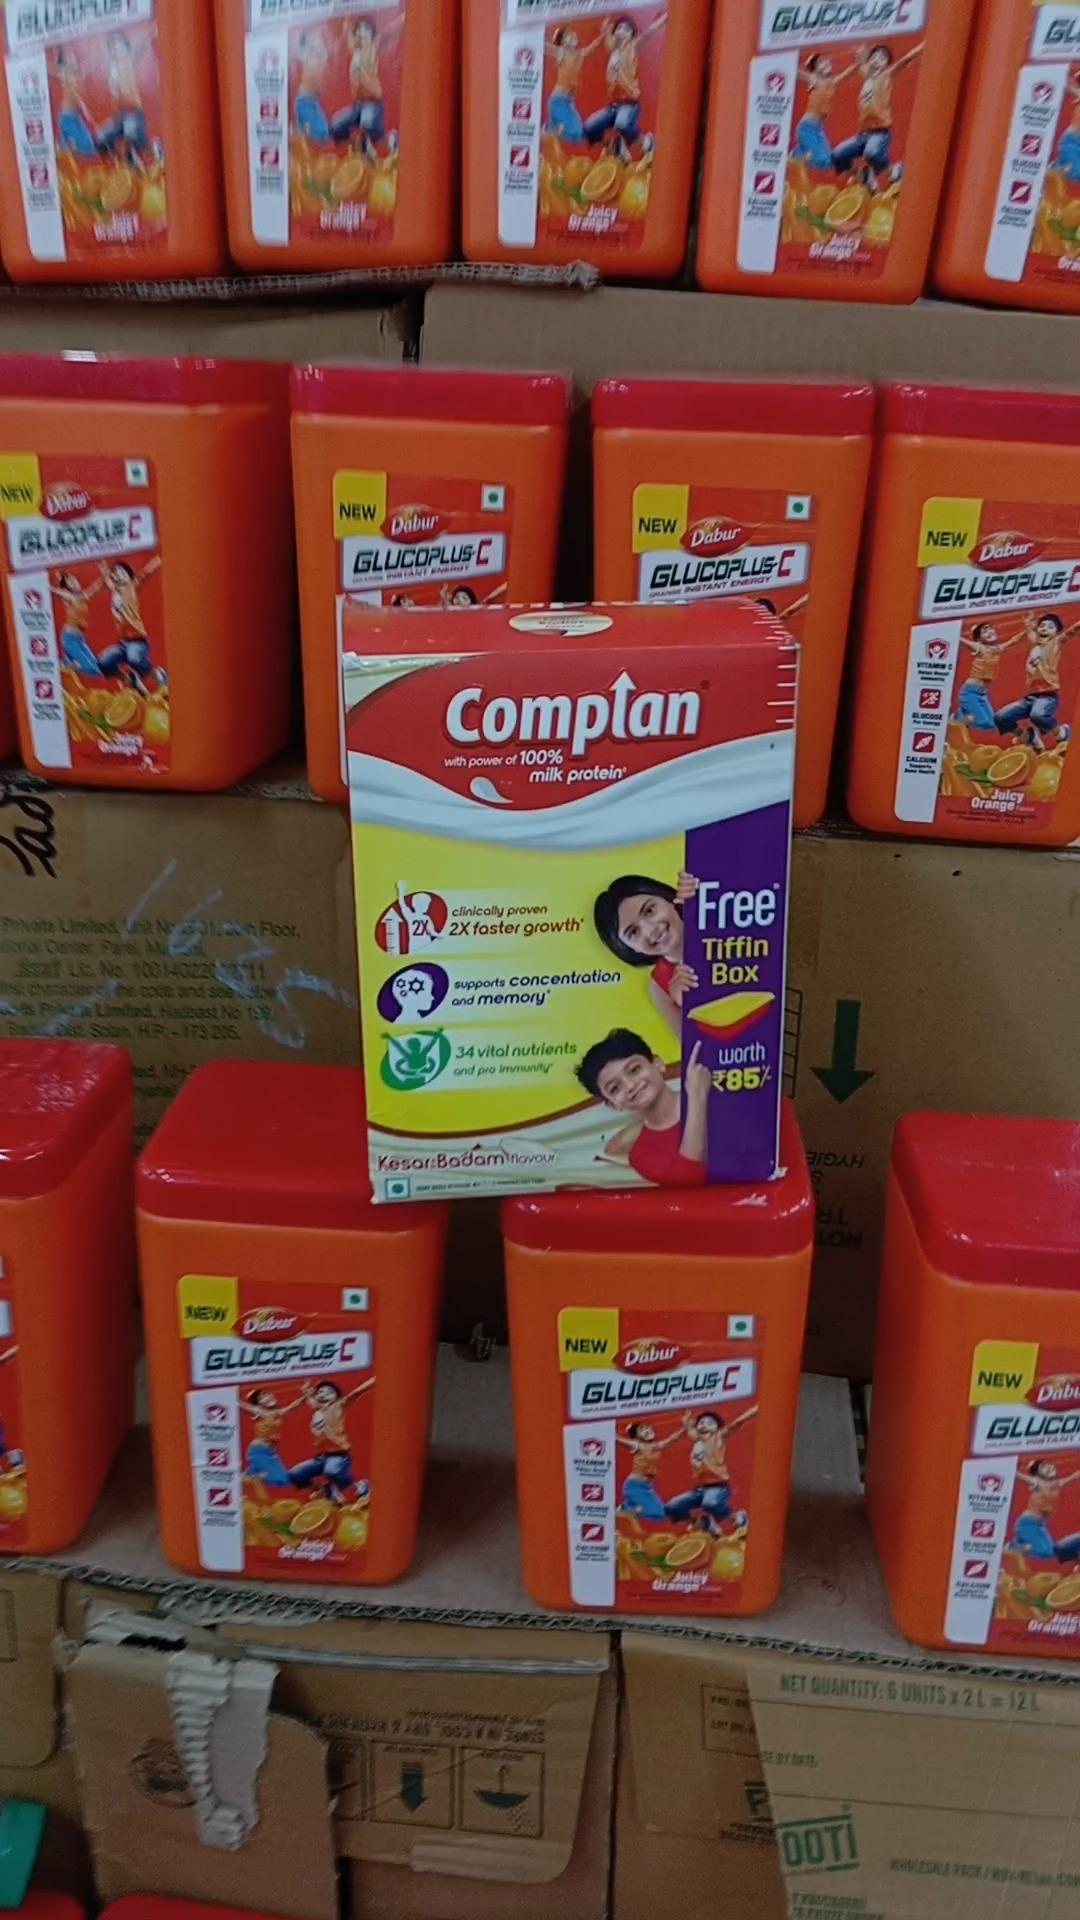COMPLAN_KESAR_BADAM_500_GMS_PACK: (349, 646, 785, 1196)
